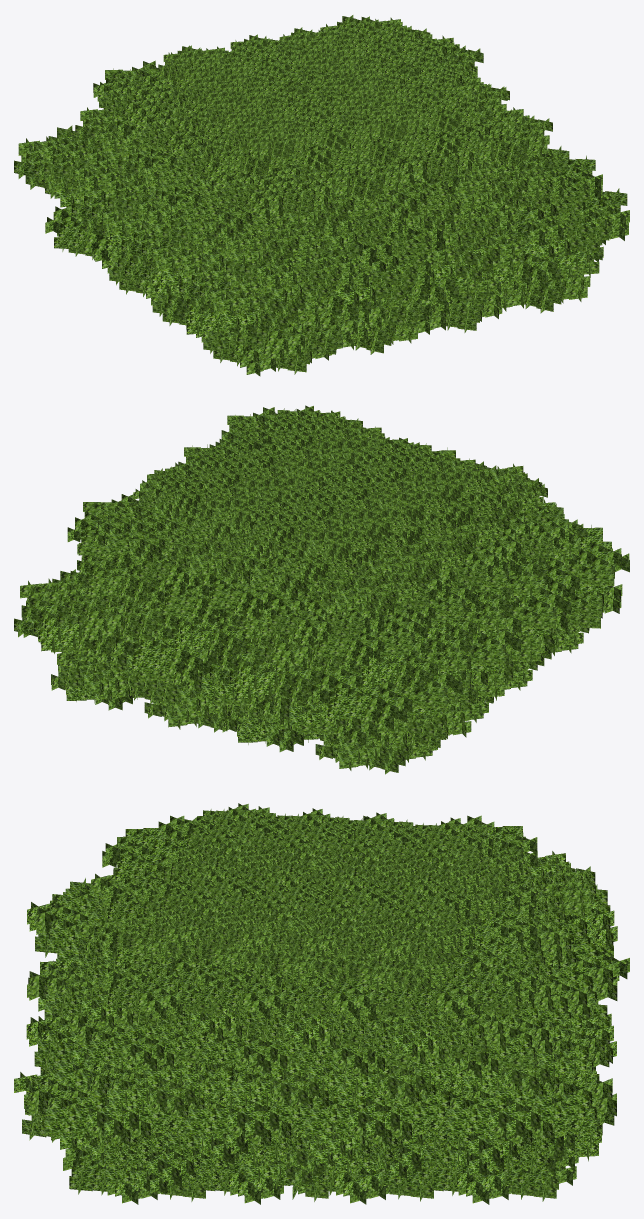
File: sigemi.fbx
3 renders of one model, top to bottom at view 1: azimuth 30°, elevation 25°; view 2: azimuth 150°, elevation 25°; view 3: azimuth 270°, elevation 25°, orthographic. The views are drawn at different scales.
Parts seen in each view (by area): view 1: 平面.008; view 2: 平面.008; view 3: 平面.008.
Part boxes in pixels (x1,y1,x2,y2): 平面.008: (14, 15, 629, 376); 平面.008: (14, 405, 629, 774); 平面.008: (14, 803, 629, 1204).
Size of the model in its own units: 346 by 139 by 351.
